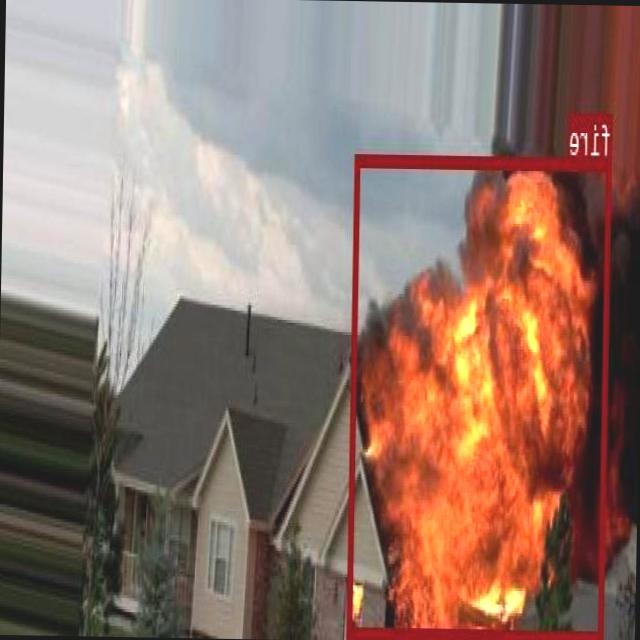fire: (348, 152, 612, 640)
